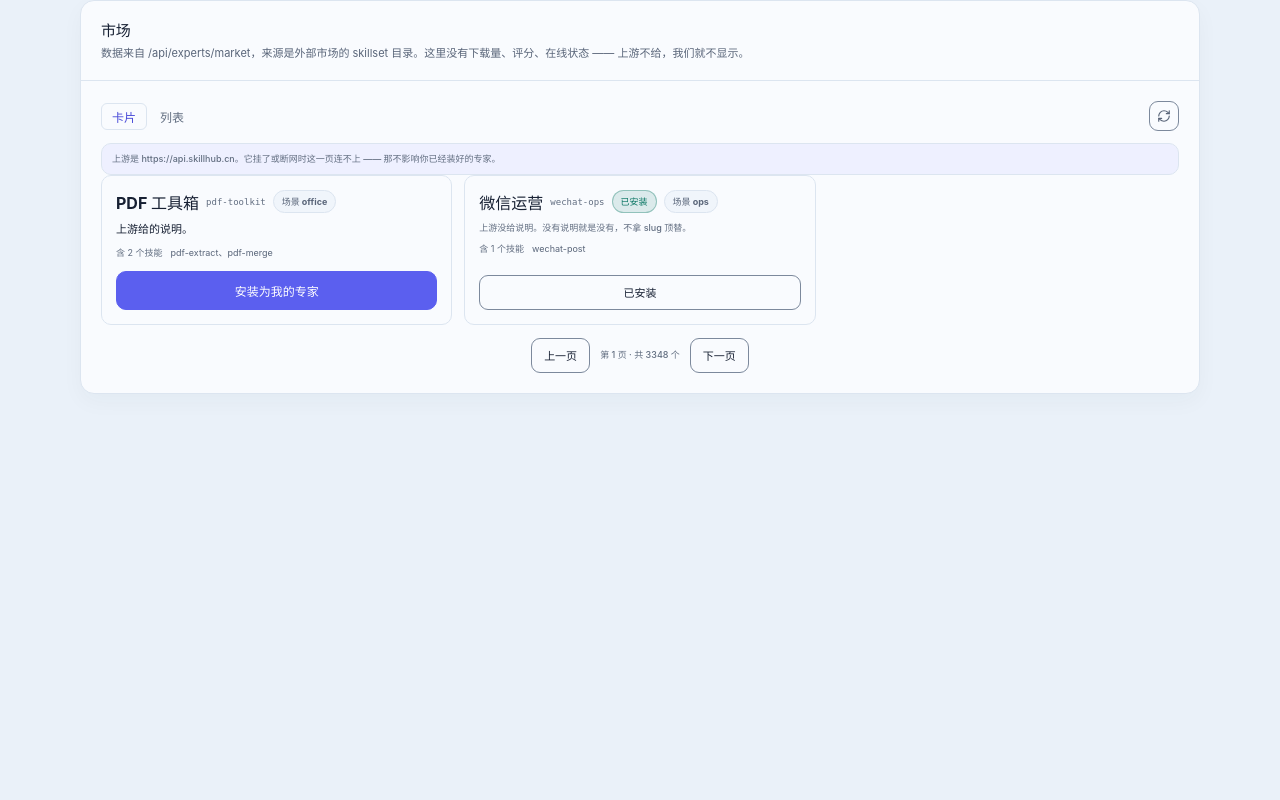
it: already_installed 时说清没有覆盖
Check: the list item that starts with "PDF 工具箱" is shown, box [101,175,452,325]
Click the button "安装为我的专家": (277, 290) [116,271,437,310]
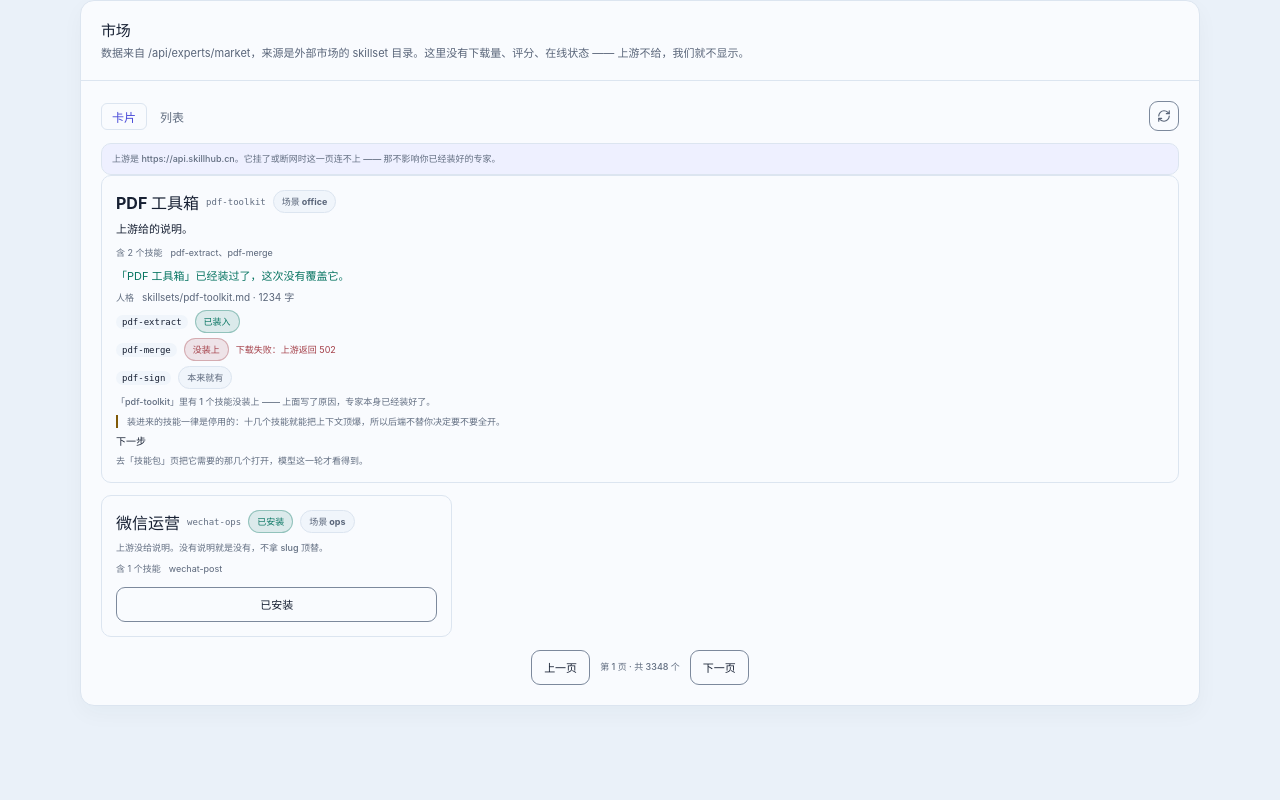
Check: the text "「PDF 工具箱」已经装过了，这次没有覆盖它。" is shown, box [116,269,350,283]
